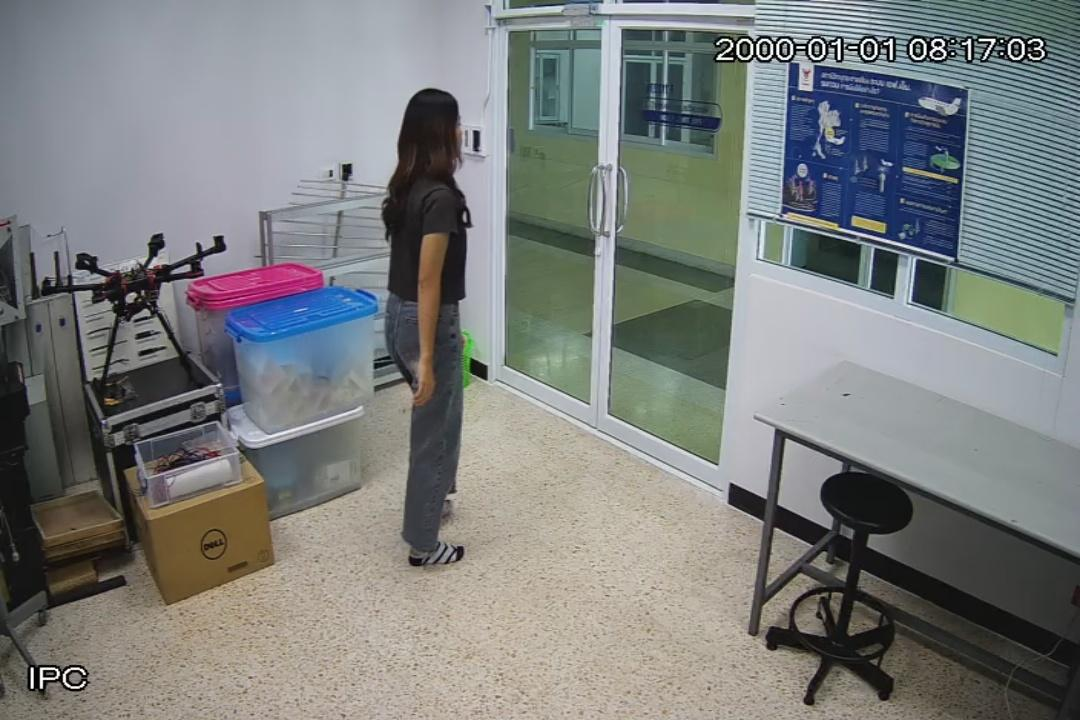normal: (379, 88, 474, 570)
